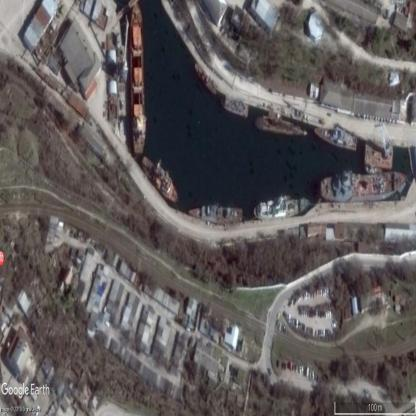ship: (129, 1, 146, 156), (322, 174, 406, 204), (141, 153, 176, 199), (255, 197, 308, 223), (191, 203, 243, 224), (315, 128, 358, 150), (196, 62, 217, 95), (257, 119, 305, 133), (223, 95, 249, 117)
